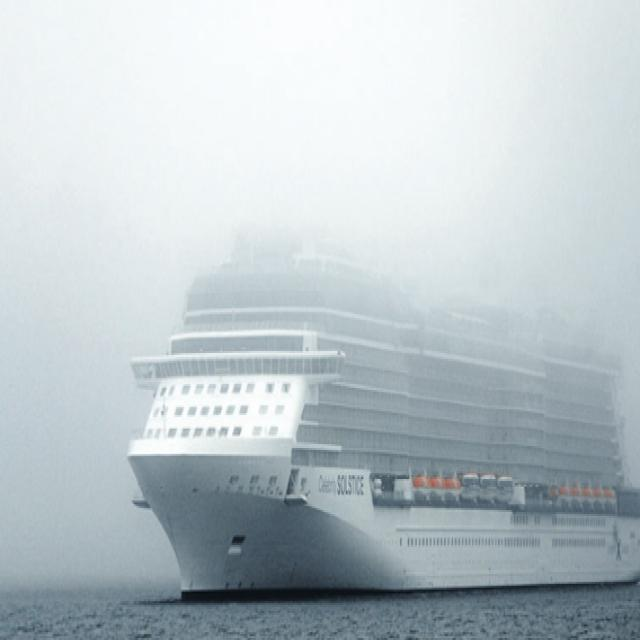passenger ship: (125, 211, 640, 607)
